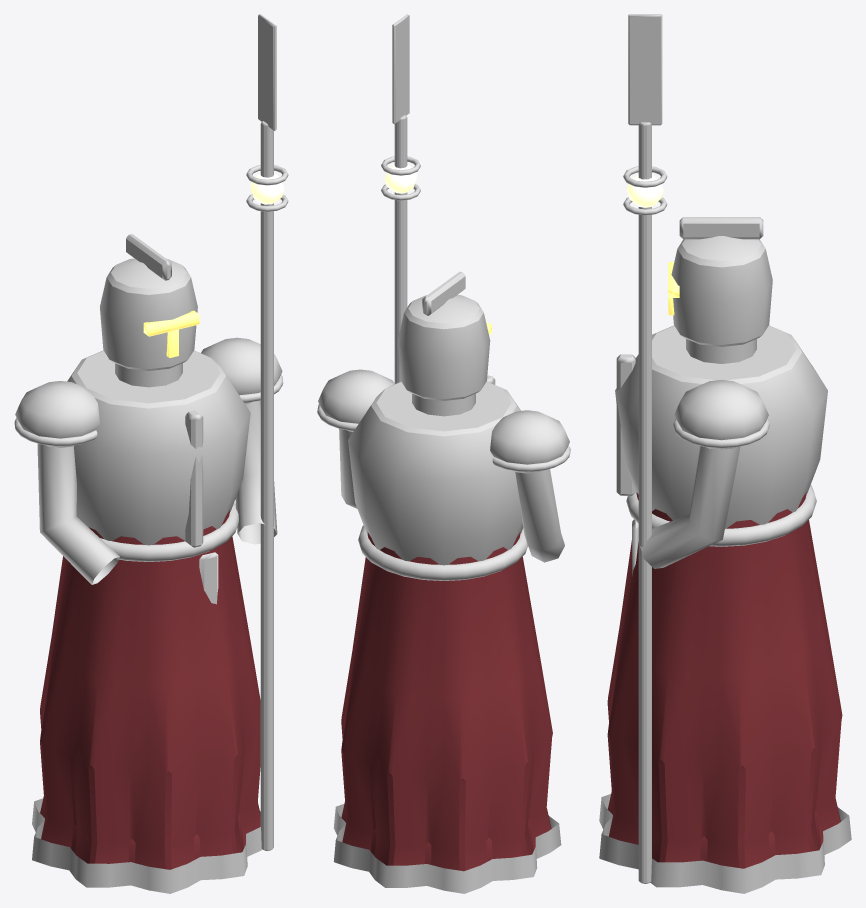
The model's file is crew_attendant.glb.
3 views of the same model, side by side, from view 1: azimuth 30°, elevation 25°; view 2: azimuth 150°, elevation 25°; view 3: azimuth 270°, elevation 25° (orthographic). The views are drawn at different scales.
Visible parts, largest first — view 1: crew__robe, crew__iron_decay, crew__trim_brass, crew__haft_wood, crew__visor_glow, crew__lamp_glow; view 2: crew__robe, crew__iron_decay, crew__trim_brass, crew__haft_wood, crew__lamp_glow; view 3: crew__robe, crew__iron_decay, crew__trim_brass, crew__haft_wood, crew__lamp_glow.
Part boxes in pixels (left/top/right/bottom): crew__robe: left=40, top=510, right=260, bottom=869; crew__iron_decay: left=15, top=14, right=288, bottom=604; crew__trim_brass: left=14, top=234, right=283, bottom=893; crew__haft_wood: left=260, top=121, right=273, bottom=850; crew__visor_glow: left=143, top=310, right=199, bottom=357; crew__lamp_glow: left=250, top=173, right=284, bottom=204; crew__robe: left=341, top=532, right=552, bottom=871; crew__iron_decay: left=318, top=14, right=569, bottom=580; crew__trim_brass: left=317, top=271, right=570, bottom=893; crew__haft_wood: left=394, top=115, right=407, bottom=383; crew__lamp_glow: left=385, top=164, right=416, bottom=193; crew__robe: left=607, top=492, right=842, bottom=868; crew__iron_decay: left=615, top=14, right=827, bottom=576; crew__trim_brass: left=599, top=217, right=851, bottom=893; crew__haft_wood: left=638, top=122, right=651, bottom=883; crew__lamp_glow: left=626, top=174, right=663, bottom=207.
Size of the model in its own units: 0.8139 by 2.51 by 0.6621.
